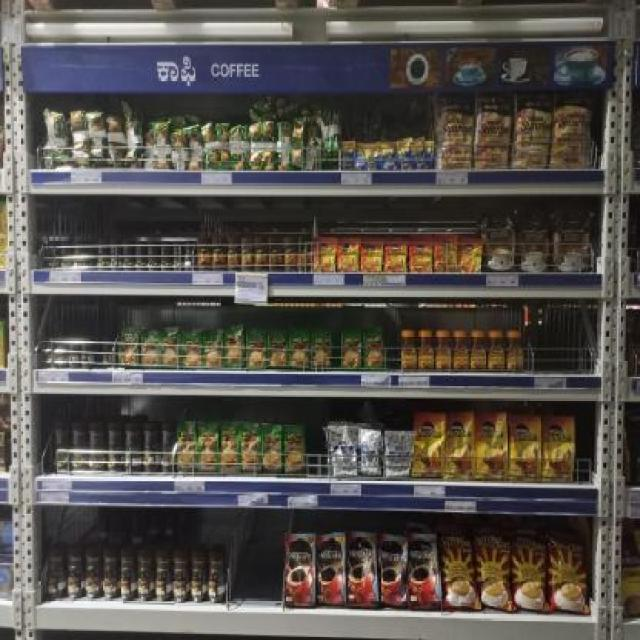Coffee: (408, 536, 439, 607), (286, 534, 316, 606), (476, 413, 507, 481), (347, 533, 376, 605), (444, 412, 474, 480), (317, 536, 346, 606), (509, 417, 540, 481), (542, 418, 573, 482), (414, 413, 444, 478), (378, 538, 407, 605), (435, 236, 457, 272), (410, 237, 432, 272), (385, 238, 407, 273), (361, 237, 382, 272), (337, 238, 358, 273), (459, 239, 481, 272), (434, 330, 452, 370), (417, 331, 434, 372), (506, 331, 523, 371), (314, 239, 334, 272), (488, 331, 504, 371), (453, 330, 469, 370), (401, 332, 417, 370), (471, 330, 486, 370)
